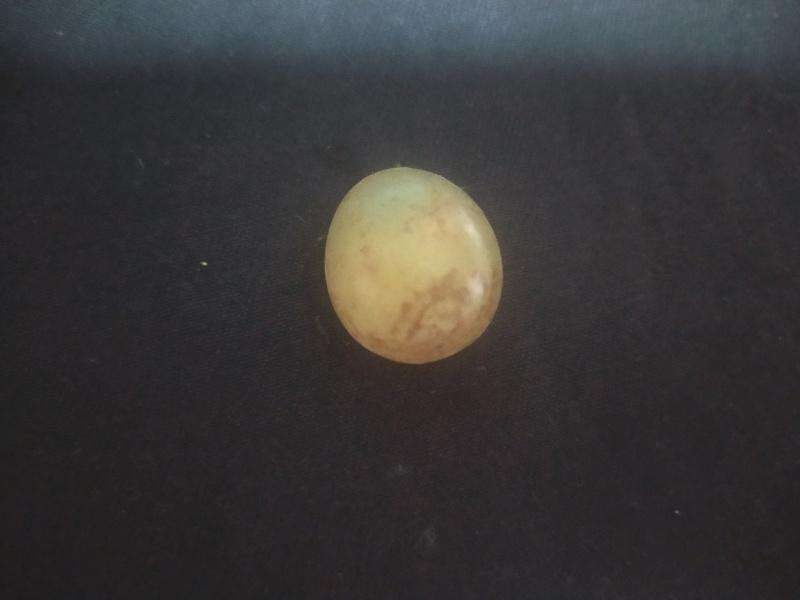Grape Rotten: (321, 163, 506, 367)
